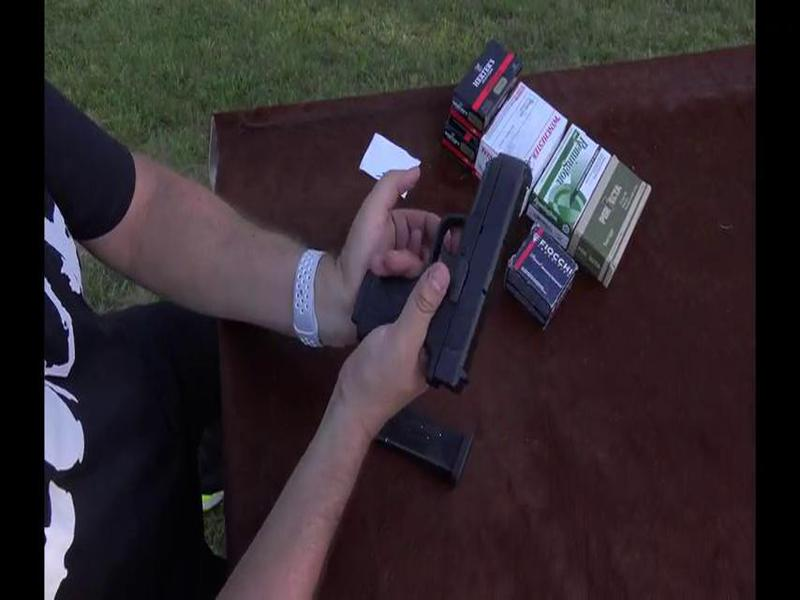Pistola: (361, 149, 541, 409)
